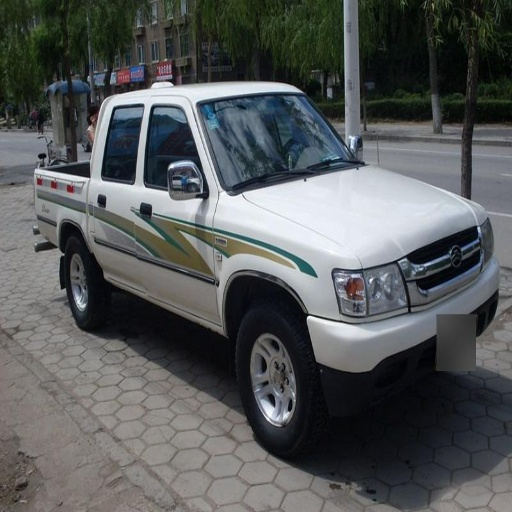front_bumper: (307, 226, 498, 415)
front_right_door: (131, 101, 217, 323)
front_right_light: (332, 266, 412, 321)
hood: (243, 167, 482, 278)
trunk: (38, 176, 87, 230)
